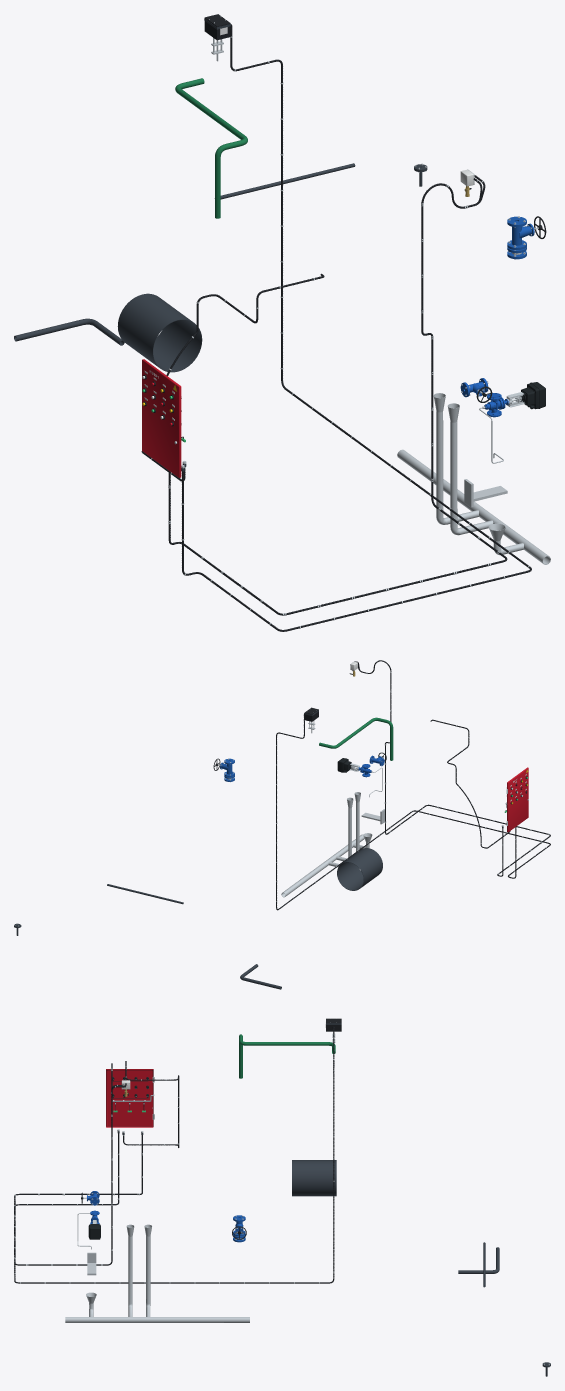
3 views of the same model, one above another, from view 1: azimuth 30°, elevation 25°; view 2: azimuth 150°, elevation 25°; view 3: azimuth 270°, elevation 25° (orthographic). The views are drawn at different scales.
Parts seen in each view (by area): view 1: flue_spacer / dark, local_open_drains / steel, cabinet_door / cabinet_door_5.npz, mod_direct_drive_cable / black, wiring_pressure_transmitter / black, wiring_pressure_switch_3 / black, direct_inlet / green, bcv925 / bcv925_0.npz, wiring_low_level_2 / black, bottom_bypass_after / dark, sample_piping / steel; view 2: flue_spacer / dark, local_open_drains / steel, cabinet_door / cabinet_door_5.npz, mod_direct_drive_cable / black, wiring_pressure_switch_3 / black, wiring_pressure_transmitter / black, direct_inlet / green; view 3: cabinet_door / cabinet_door_5.npz, local_open_drains / steel, flue_spacer / dark, mod_direct_drive_cable / black, wiring_pressure_transmitter / black, wiring_pressure_switch_3 / black, direct_inlet / green.
Part boxes in pixels (box(x1,y1,x2,y2)): flue_spacer / dark: box(117, 293, 202, 372); local_open_drains / steel: box(397, 393, 550, 564); cabinet_door / cabinet_door_5.npz: box(142, 359, 181, 477); mod_direct_drive_cable / black: box(181, 24, 531, 631); wiring_pressure_transmitter / black: box(168, 178, 506, 615); wiring_pressure_switch_3 / black: box(168, 175, 507, 615); direct_inlet / green: box(175, 78, 247, 218); bcv925 / bcv925_0.npz: box(484, 382, 545, 417); wiring_low_level_2 / black: box(141, 273, 324, 481); bottom_bypass_after / dark: box(14, 318, 124, 345); sample_piping / steel: box(464, 406, 507, 507); flue_spacer / dark: box(337, 848, 382, 890); local_open_drains / steel: box(281, 792, 372, 897); cabinet_door / cabinet_door_5.npz: box(506, 767, 528, 832); mod_direct_drive_cable / black: box(276, 713, 550, 910); wiring_pressure_switch_3 / black: box(350, 660, 550, 876); wiring_pressure_transmitter / black: box(356, 660, 550, 876); direct_inlet / green: box(319, 717, 393, 760); cabinet_door / cabinet_door_5.npz: box(106, 1069, 154, 1127); local_open_drains / steel: box(65, 1224, 249, 1322); flue_spacer / dark: box(292, 1160, 336, 1196); mod_direct_drive_cable / black: box(14, 1028, 334, 1283); wiring_pressure_transmitter / black: box(14, 1063, 142, 1265); wiring_pressure_switch_3 / black: box(14, 1063, 142, 1265); direct_inlet / green: box(239, 1034, 335, 1078).
Size of the model in its own units: 4.92 by 3.3 by 6.03.
